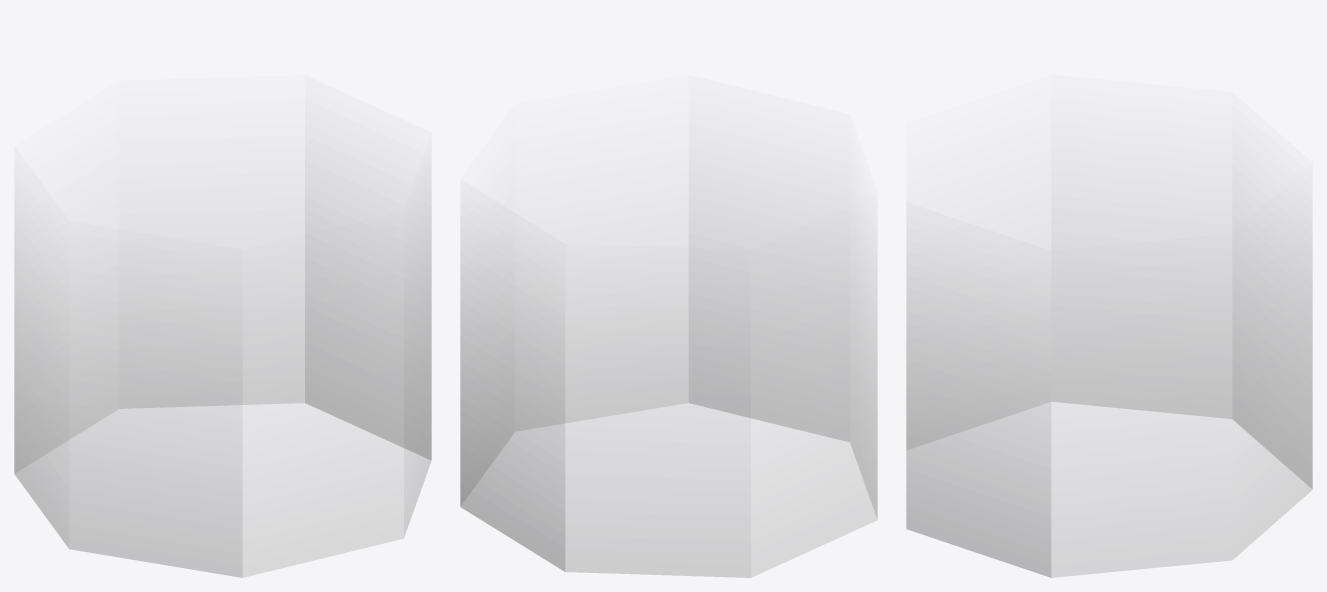
File: repelRing.glb
3 views of the same model, side by side, from view 1: azimuth 30°, elevation 25°; view 2: azimuth 150°, elevation 25°; view 3: azimuth 270°, elevation 25° (orthographic).
Visible parts, largest first — view 1: Cylinder; view 2: Cylinder; view 3: Cylinder.
Part boxes in pixels (x1=…): Cylinder: x1=14, y1=160, x2=431, y2=577; Cylinder: x1=460, y1=160, x2=877, y2=577; Cylinder: x1=906, y1=159, x2=1312, y2=577.
Size of the model in its own units: 1.95 by 2 by 1.9.
Materials: 1 (1 with a texture image).
